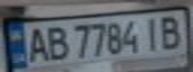4: (121, 17, 142, 54)
7: (69, 20, 93, 58), (87, 19, 109, 56)
8: (106, 19, 127, 55)
A: (21, 24, 51, 63)
B: (154, 12, 187, 51), (42, 24, 69, 62)
I: (139, 15, 163, 52)
